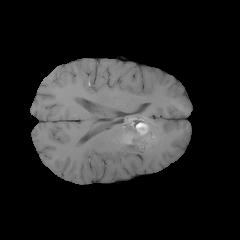glioma: (110, 117, 163, 160)
